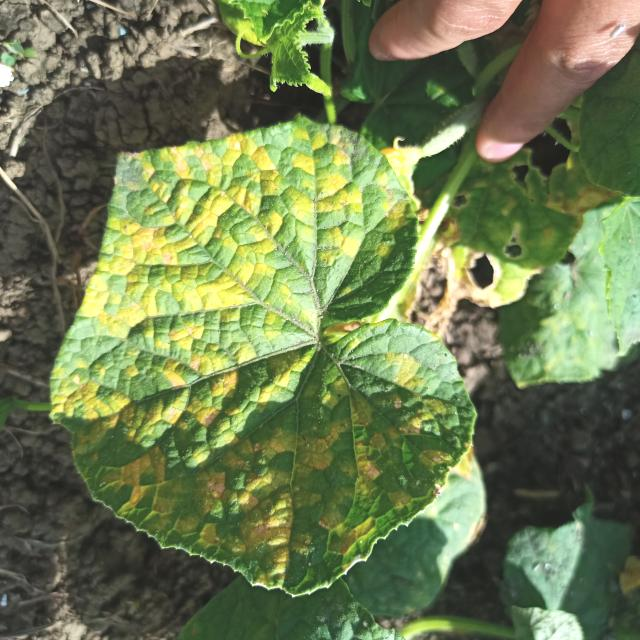disease_cucumber: (55, 129, 450, 588)
